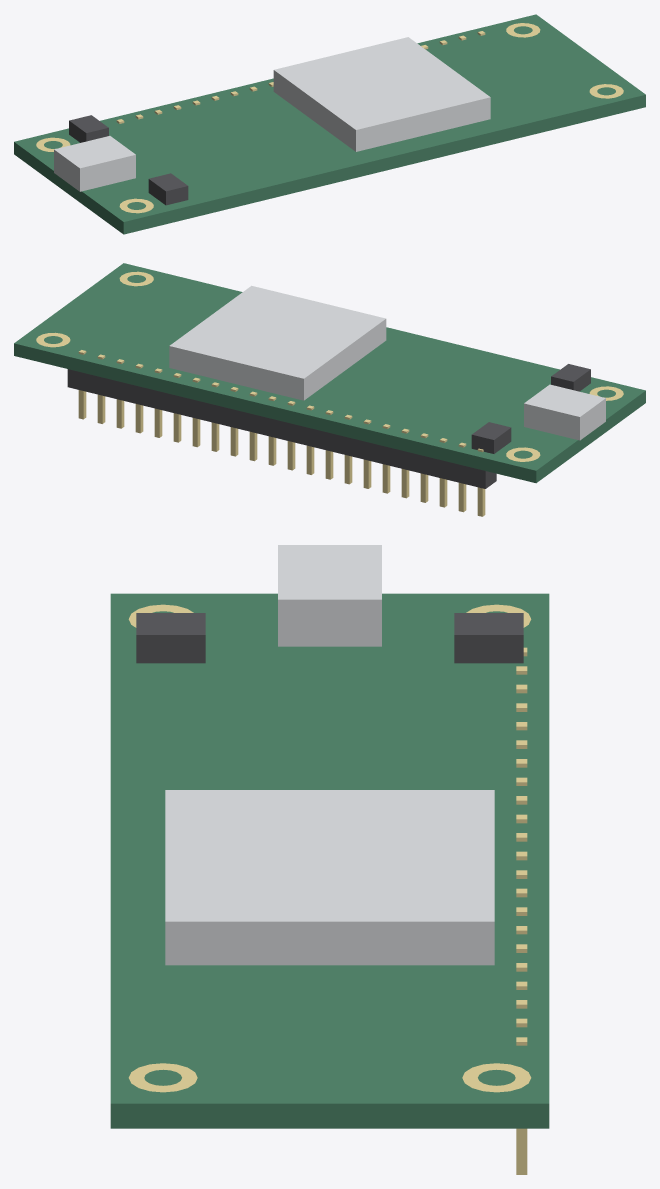
Rendered from esp32-s3-devkitc-1.glb.
3 views of the same model, one above another, from view 1: azimuth 30°, elevation 25°; view 2: azimuth 150°, elevation 25°; view 3: azimuth 270°, elevation 25° (orthographic). The views are drawn at different scales.
Parts seen in each view (by area): view 1: esp32-s3-devkitc-1-pcb, esp32-s3-devkitc-1-metal, esp32-s3-devkitc-1-plastic, esp32-s3-devkitc-1-mounting-pads, esp32-s3-devkitc-1-pins; view 2: esp32-s3-devkitc-1-pcb, esp32-s3-devkitc-1-metal, esp32-s3-devkitc-1-plastic, esp32-s3-devkitc-1-pins, esp32-s3-devkitc-1-mounting-pads; view 3: esp32-s3-devkitc-1-pcb, esp32-s3-devkitc-1-metal, esp32-s3-devkitc-1-plastic, esp32-s3-devkitc-1-mounting-pads, esp32-s3-devkitc-1-pins.
Boxes of the visible parts, x1,y1,x2,y2 form: esp32-s3-devkitc-1-pcb: (14, 14, 645, 234); esp32-s3-devkitc-1-metal: (54, 37, 490, 191); esp32-s3-devkitc-1-plastic: (69, 115, 188, 205); esp32-s3-devkitc-1-mounting-pads: (36, 23, 623, 213); esp32-s3-devkitc-1-pins: (116, 31, 485, 123); esp32-s3-devkitc-1-pcb: (14, 263, 645, 483); esp32-s3-devkitc-1-metal: (169, 285, 605, 440); esp32-s3-devkitc-1-plastic: (67, 364, 590, 488); esp32-s3-devkitc-1-pins: (78, 350, 485, 516); esp32-s3-devkitc-1-mounting-pads: (36, 271, 623, 461); esp32-s3-devkitc-1-pcb: (110, 593, 549, 1128); esp32-s3-devkitc-1-metal: (165, 545, 494, 965); esp32-s3-devkitc-1-plastic: (136, 613, 523, 663); esp32-s3-devkitc-1-mounting-pads: (128, 604, 531, 1092); esp32-s3-devkitc-1-pins: (516, 647, 527, 1174).
Size of the model in its own units: 0.07 by 0.0112 by 0.0254.
